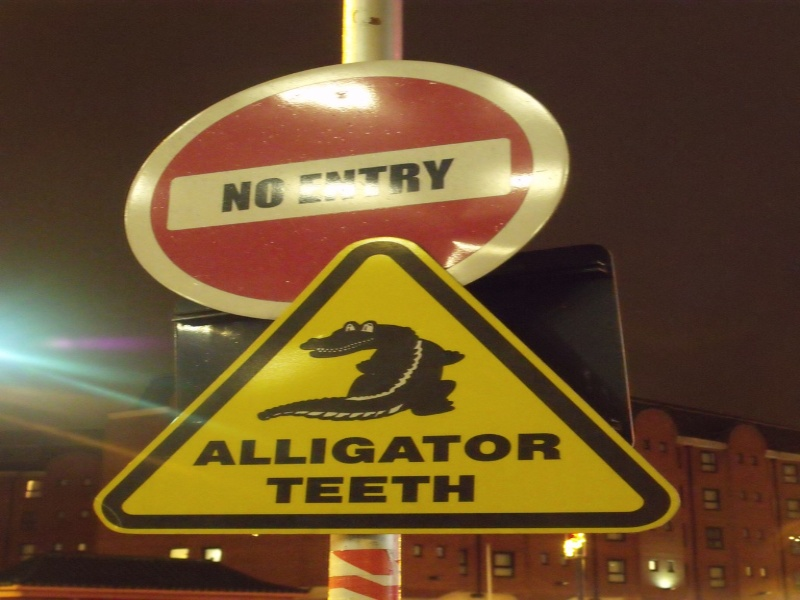animal_ahead: (90, 239, 684, 534)
no_entry: (122, 56, 581, 308)
